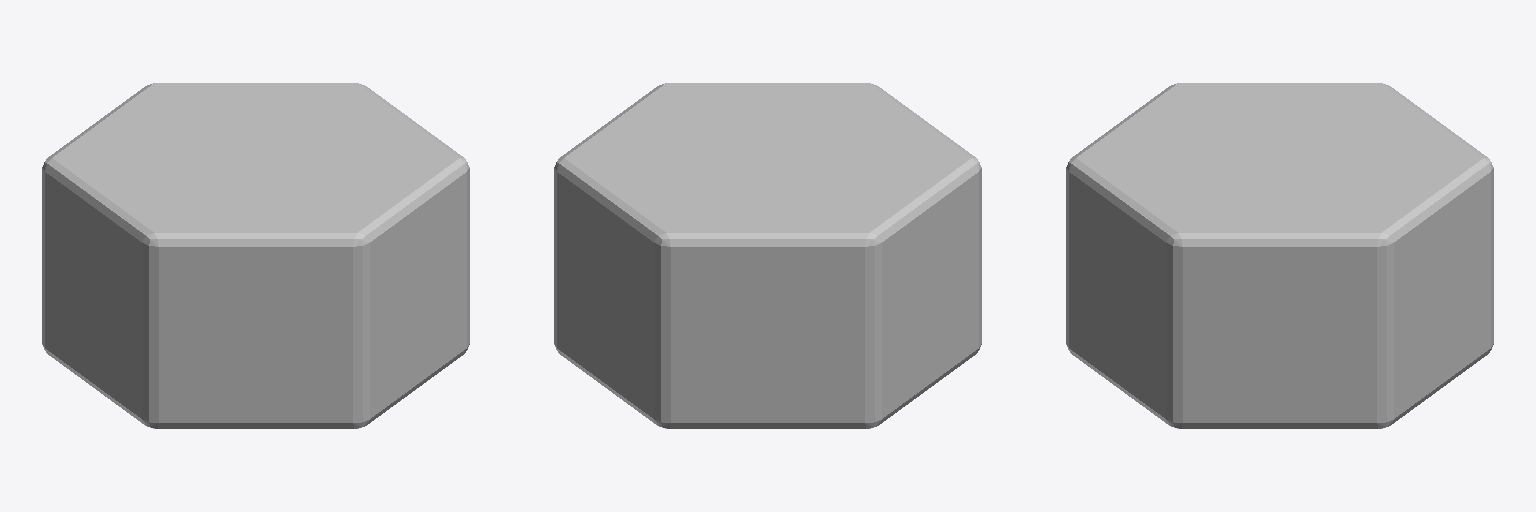
The model's file is grass.obj.
3 views of the same model, side by side, from view 1: azimuth 30°, elevation 25°; view 2: azimuth 150°, elevation 25°; view 3: azimuth 270°, elevation 25° (orthographic).
Parts seen in each view (by area): view 1: grass; view 2: grass; view 3: grass.
Boxes of the visible parts, x1=… form: grass: x1=42, y1=83, x2=469, y2=428; grass: x1=554, y1=83, x2=981, y2=428; grass: x1=1066, y1=83, x2=1493, y2=428.
Bounding box in the file's own units: 6.93 × 4 × 7.9.